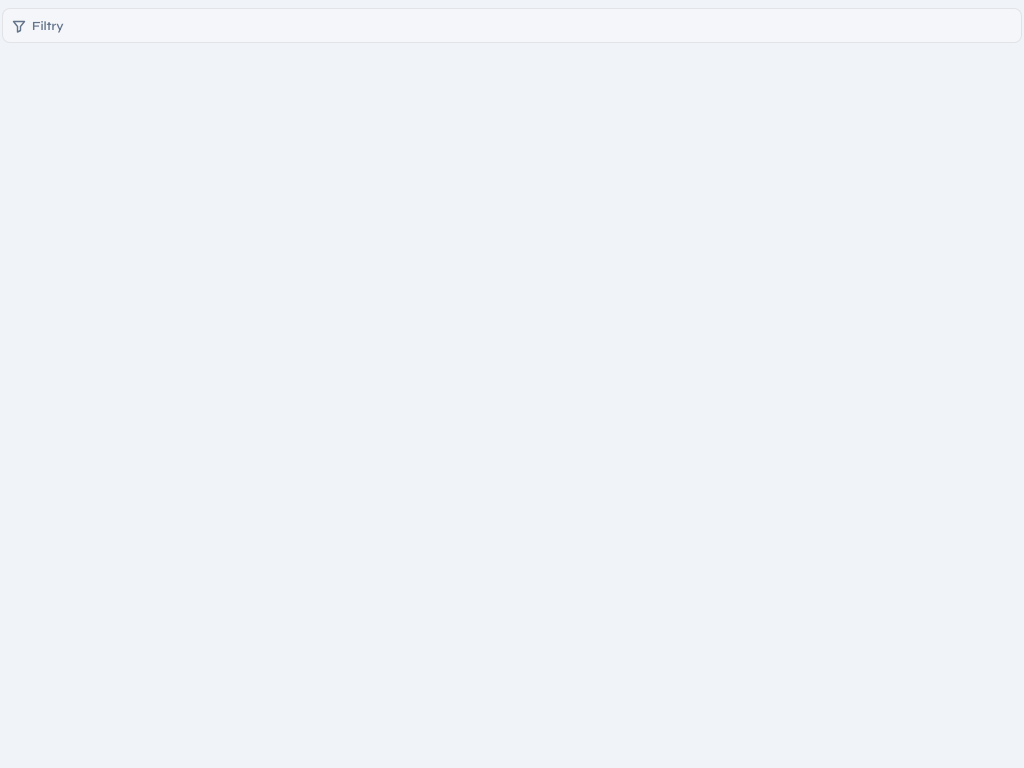
Test case: FiltersPanel — panel typu drawer › lista wyników ma własne przewijanie (overflow-y:auto), niezależne od panelu
Click the button "Filtry" at [48, 26], box left=2, top=8, right=1022, bottom=43
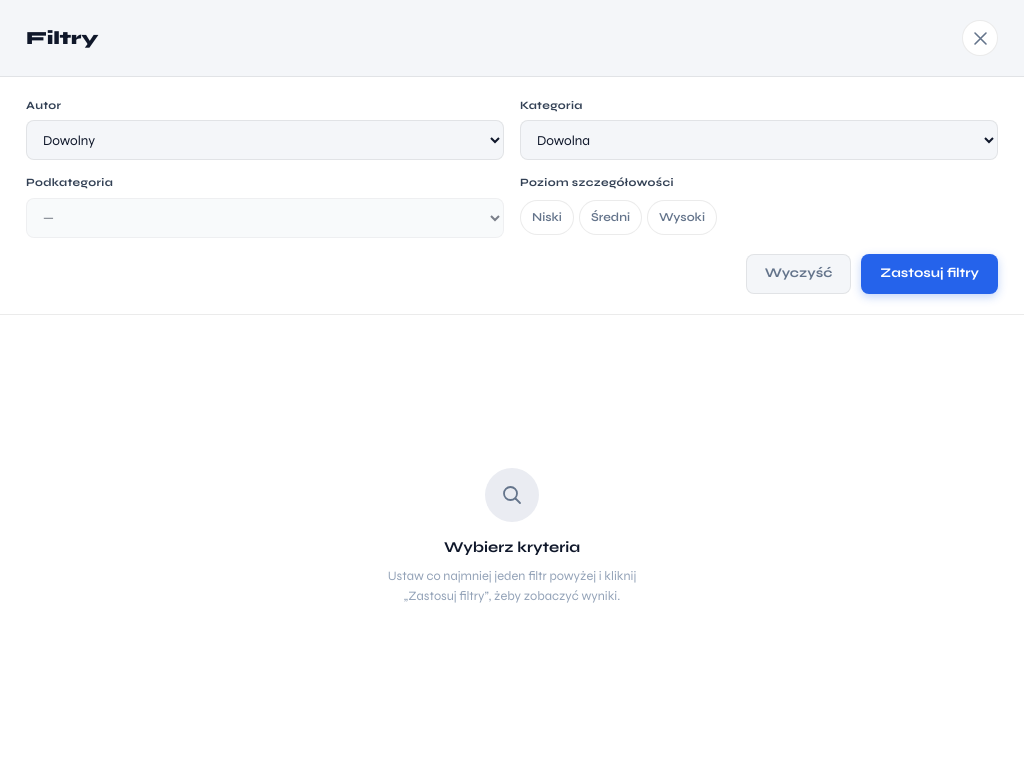
expect the dialog "Filtry" is shown: met
Select "Ala" in the dropdown with class "sop-select" below "Autor" at [265, 140], box left=26, top=120, right=504, bottom=160
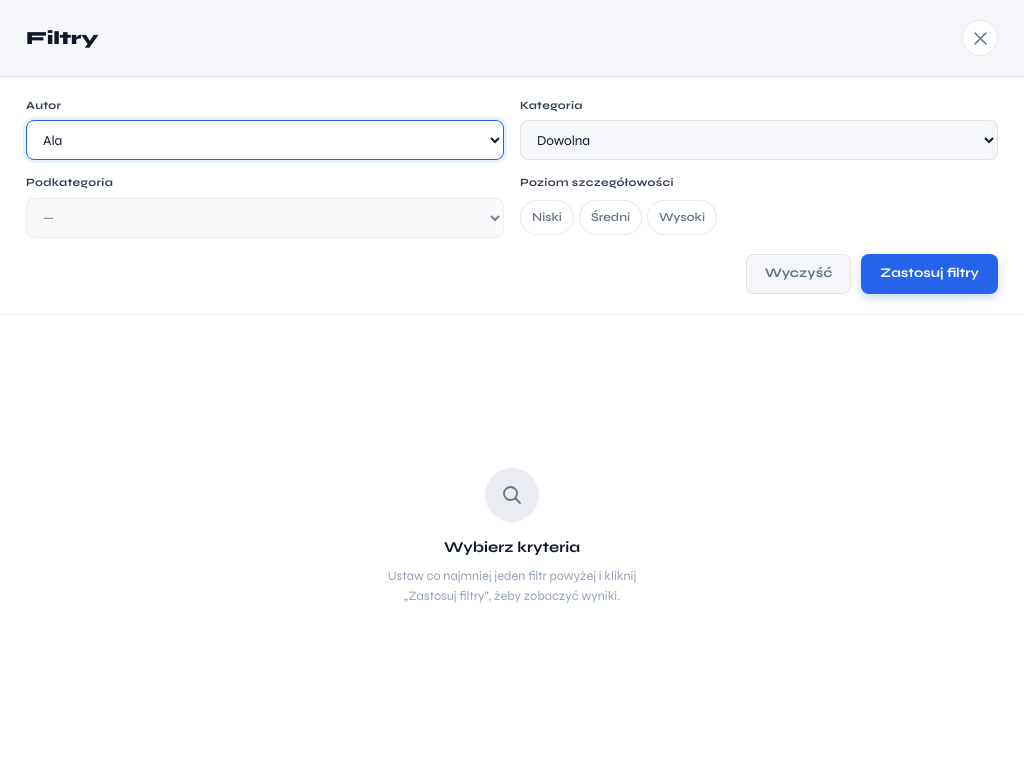
Click the button "Zastosuj filtry" at [930, 274], box left=861, top=254, right=998, bottom=294
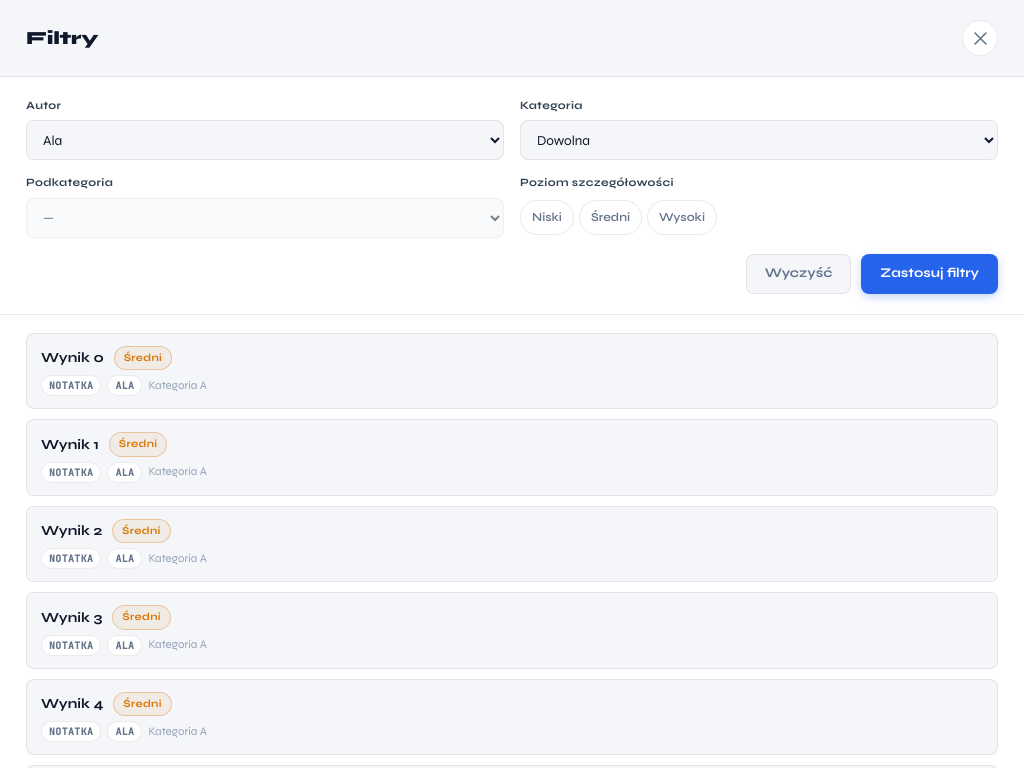
expect the text "Wynik 0" is shown: met, box left=41, top=347, right=104, bottom=369
